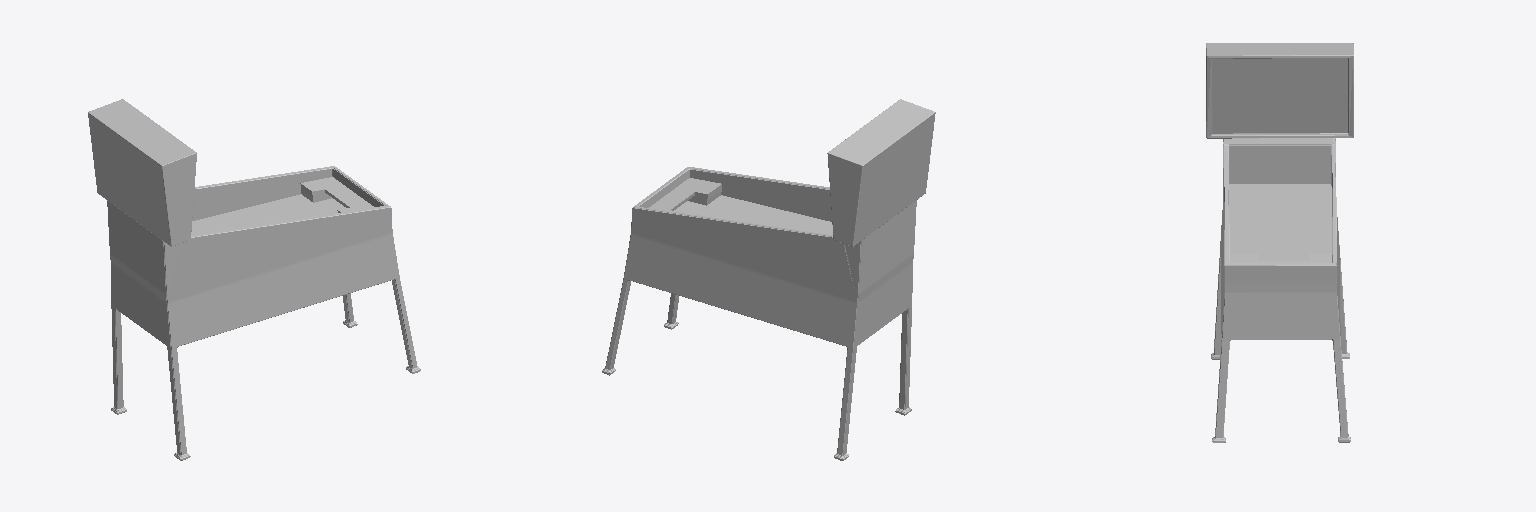
File: Body2.obj
The picture shows the model from 3 angles: view 1: azimuth 30°, elevation 25°; view 2: azimuth 150°, elevation 25°; view 3: azimuth 270°, elevation 25°; orthographic projection.
Parts seen in each view (by area): view 1: Pinball_Cube.002; view 2: Pinball_Cube.002; view 3: Pinball_Cube.002.
Boxes of the visible parts, box(x1,y1,x2,y2) form: Pinball_Cube.002: box(88, 99, 420, 460); Pinball_Cube.002: box(602, 99, 935, 460); Pinball_Cube.002: box(1206, 43, 1353, 442).
Size of the model in its own units: 15.07 by 16.81 by 7.32.